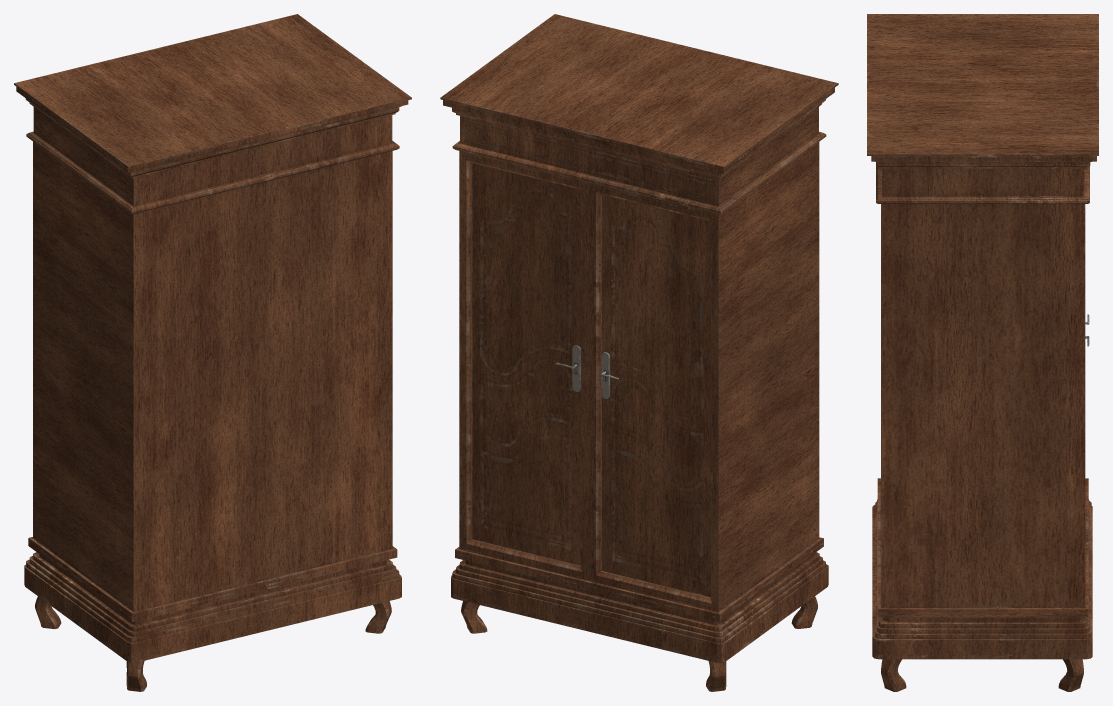
File: wardrobe.glb
3 views of the same model, side by side, from view 1: azimuth 30°, elevation 25°; view 2: azimuth 150°, elevation 25°; view 3: azimuth 270°, elevation 25° (orthographic).
Visible parts, largest first — view 1: low poly supports; view 2: low poly supports; view 3: low poly supports.
Part boxes in pixels (x1,y1,x2,y2): low poly supports: [14, 14, 411, 691]; low poly supports: [440, 14, 838, 691]; low poly supports: [867, 14, 1098, 691].
Bounding box in the file's own units: 1.59 × 2.88 × 1.11.
Materials: 1 (1 with a texture image).
